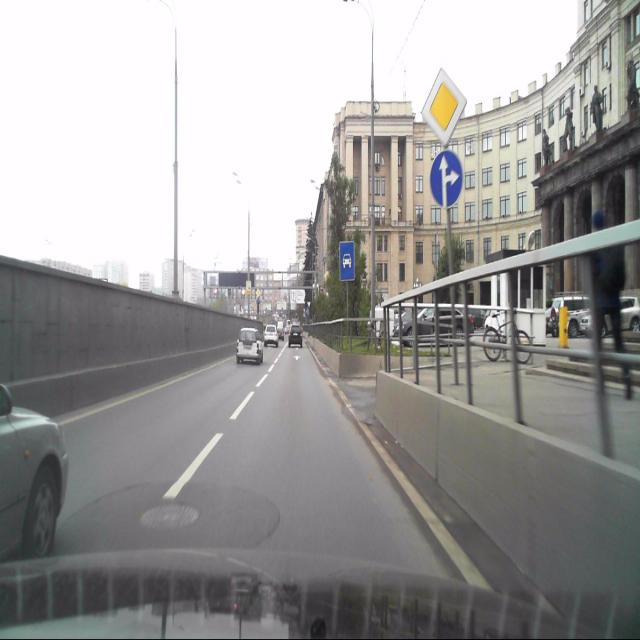road sign: (421, 66, 466, 148), (338, 241, 354, 282)
